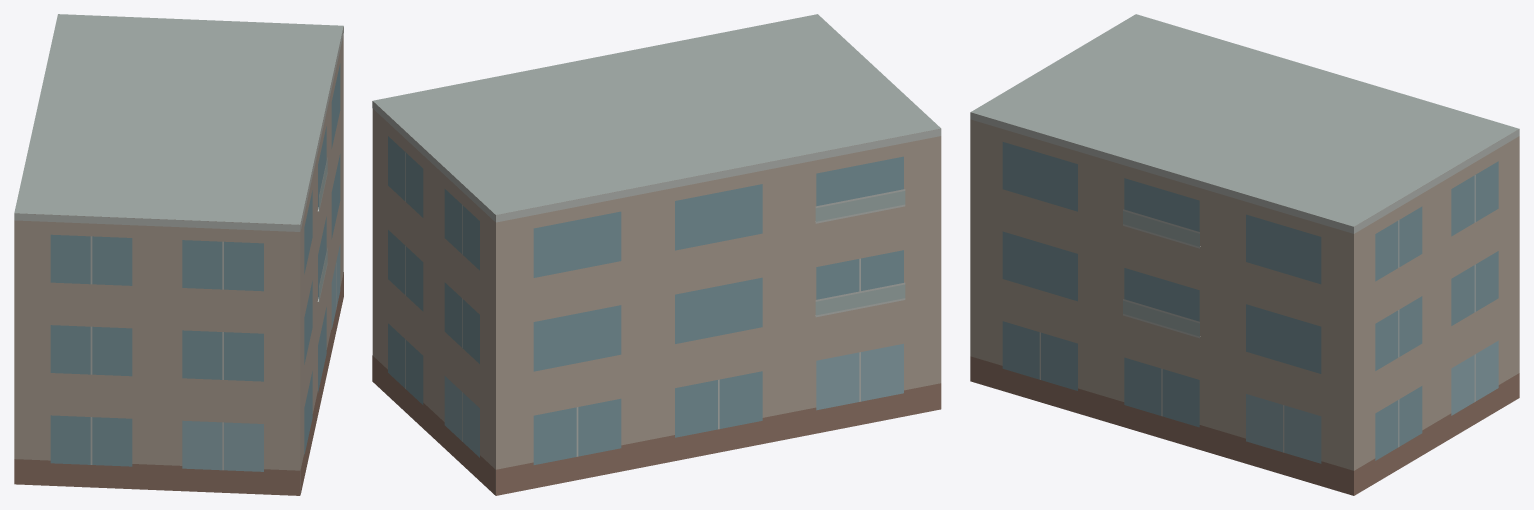
File: survey-upis-33021902.glb
3 renders of one model, left to right at view 1: azimuth 30°, elevation 25°; view 2: azimuth 150°, elevation 25°; view 3: azimuth 270°, elevation 25°, orthographic. The views are drawn at different scales.
Visible parts, largest first — view 1: survey-upis-33021902.tmp; view 2: survey-upis-33021902.tmp; view 3: survey-upis-33021902.tmp.
Part boxes in pixels (<box>): survey-upis-33021902.tmp: <box>14,14,343,495</box>; survey-upis-33021902.tmp: <box>372,14,941,495</box>; survey-upis-33021902.tmp: <box>970,14,1519,495</box>.
Bounding box in the file's own units: 15.53 × 9.15 × 16.93.
